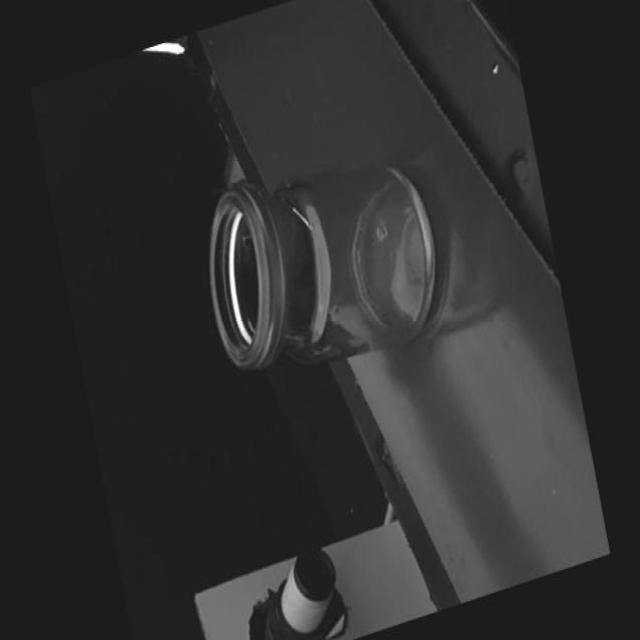defect: (286, 193, 316, 240)
glass: (190, 116, 465, 394)
